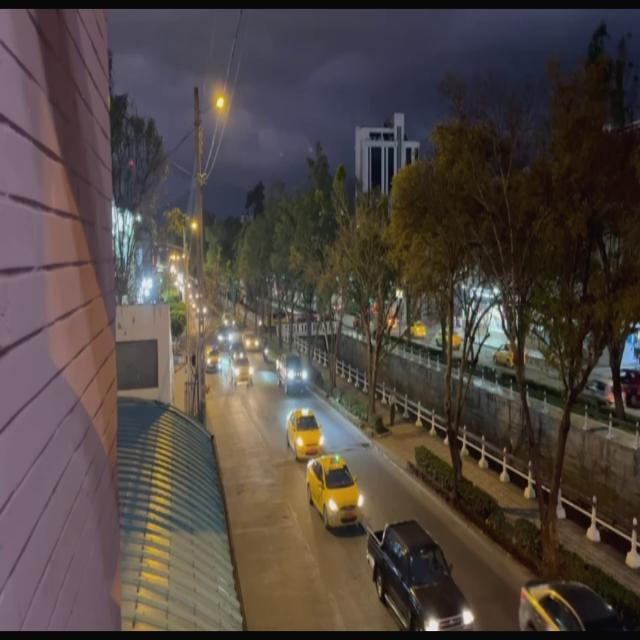CMT: (369, 523, 473, 635)
SUV: (278, 355, 306, 392)
